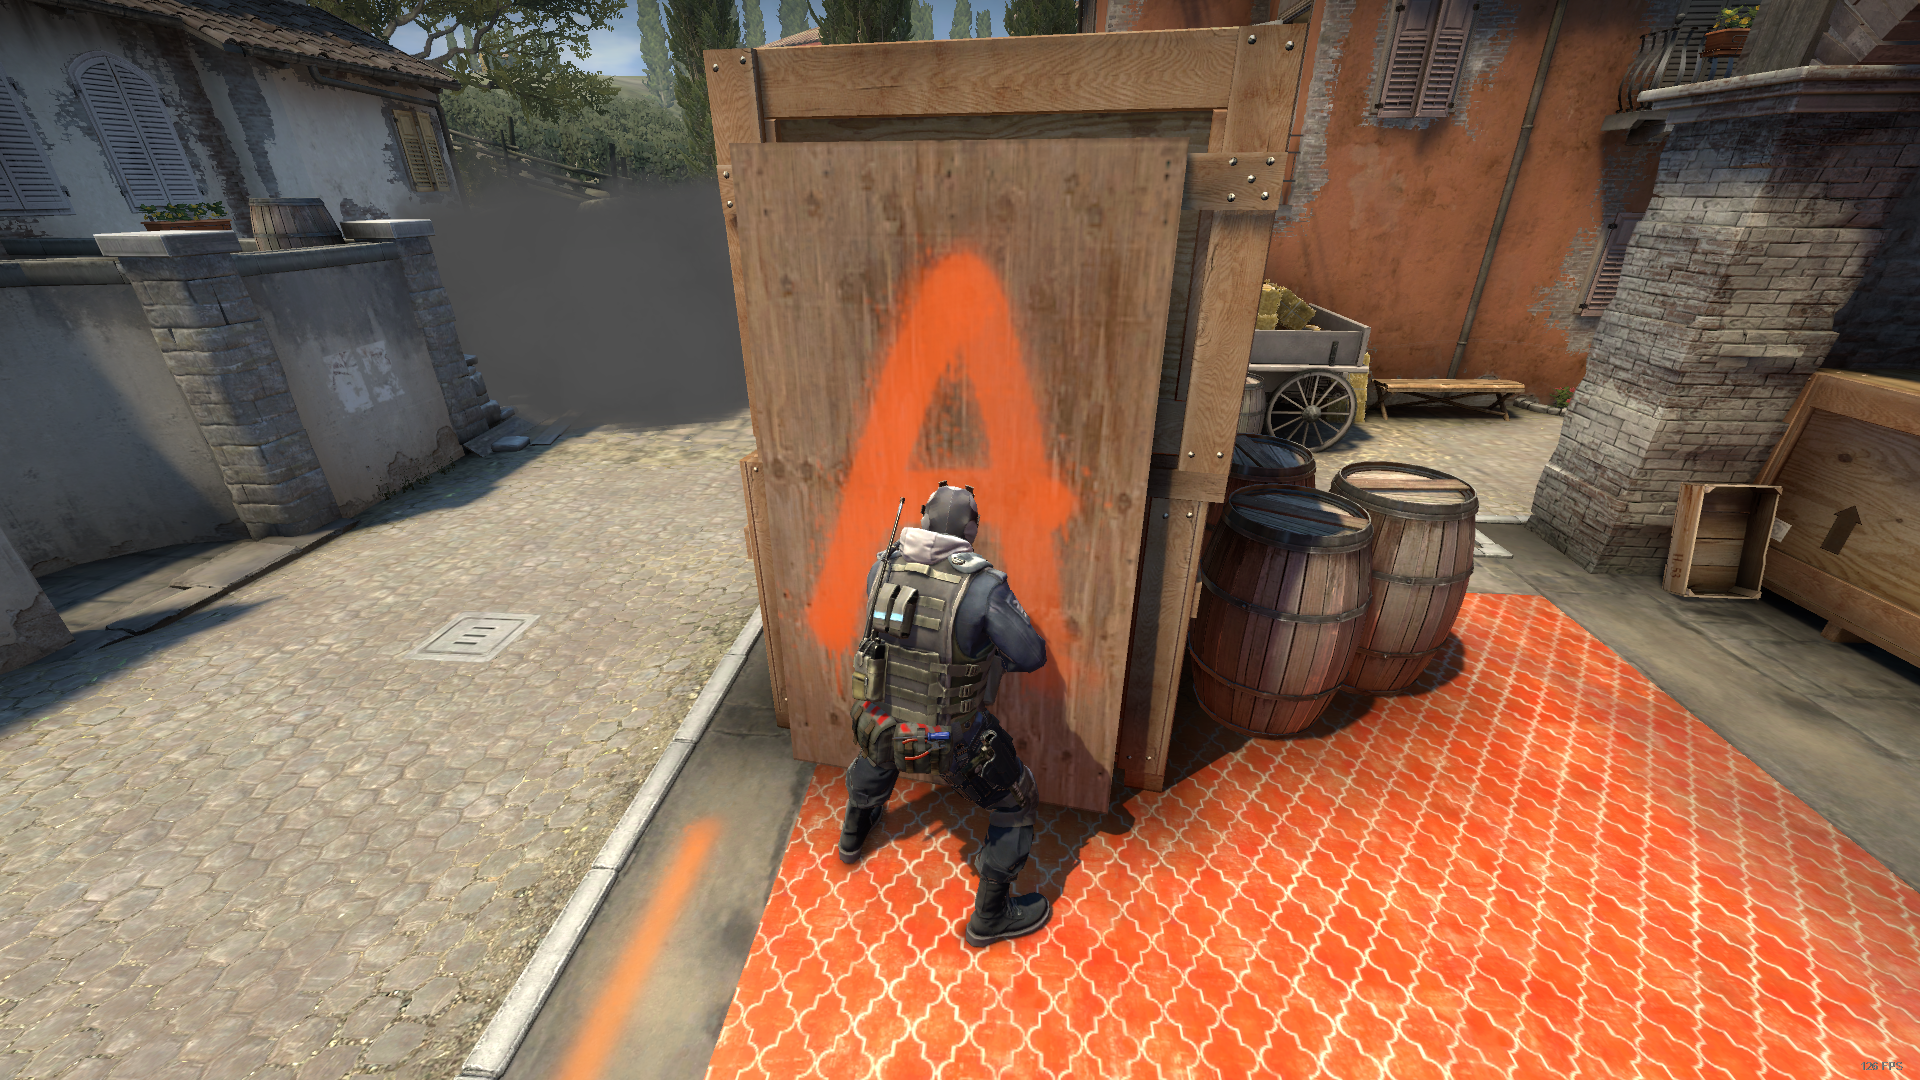ct: (843, 485, 1051, 945)
